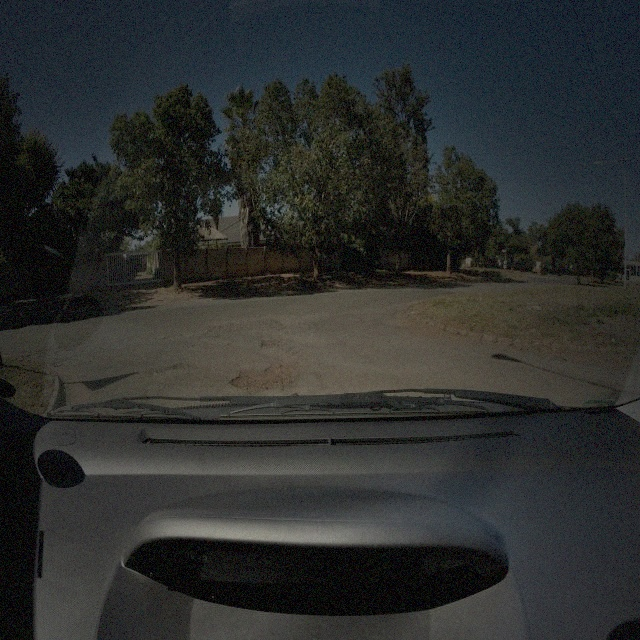pothole: (228, 360, 303, 394)
